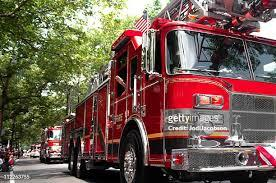Fire-engine: (61, 8, 276, 183)
